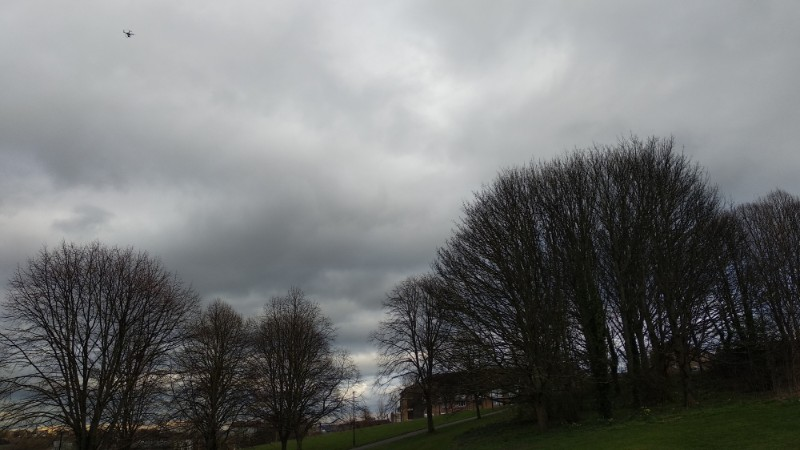drone: (124, 30, 135, 40)
